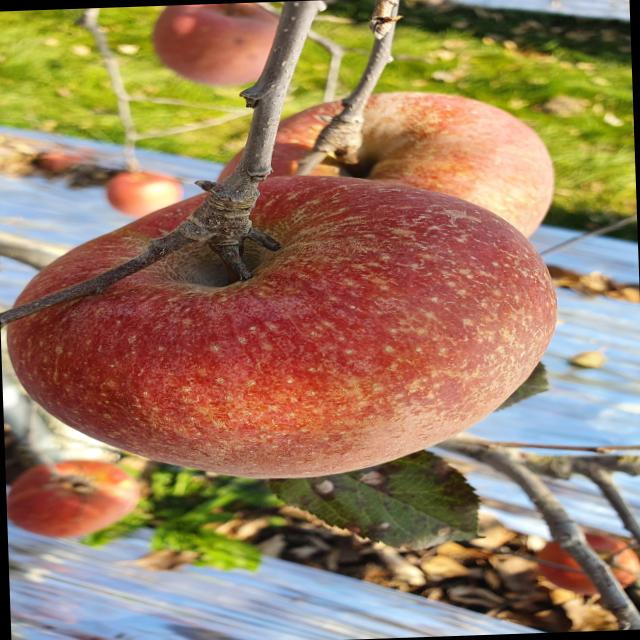fresh: (1, 157, 575, 499)
